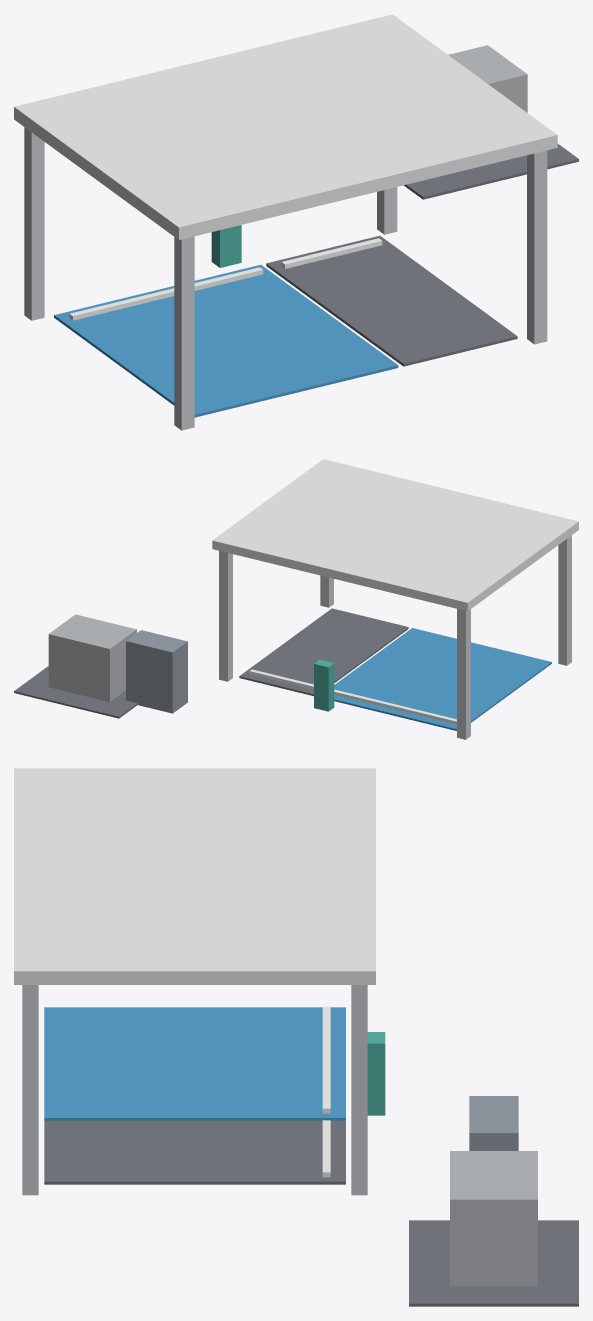
File: PWC003.glb
3 views of the same model, one above another, from view 1: azimuth 30°, elevation 25°; view 2: azimuth 150°, elevation 25°; view 3: azimuth 270°, elevation 25° (orthographic). The views are drawn at different scales.
Visible parts, largest first — view 1: PWC003_evse_build; view 2: PWC003_evse_build; view 3: PWC003_evse_build.
Part boxes in pixels (x1,y1,x2,y2): PWC003_evse_build: [14, 14, 578, 430]; PWC003_evse_build: [14, 459, 578, 739]; PWC003_evse_build: [14, 768, 578, 1306].
Size of the model in its own units: 13.4 by 4.58 by 10.3.
